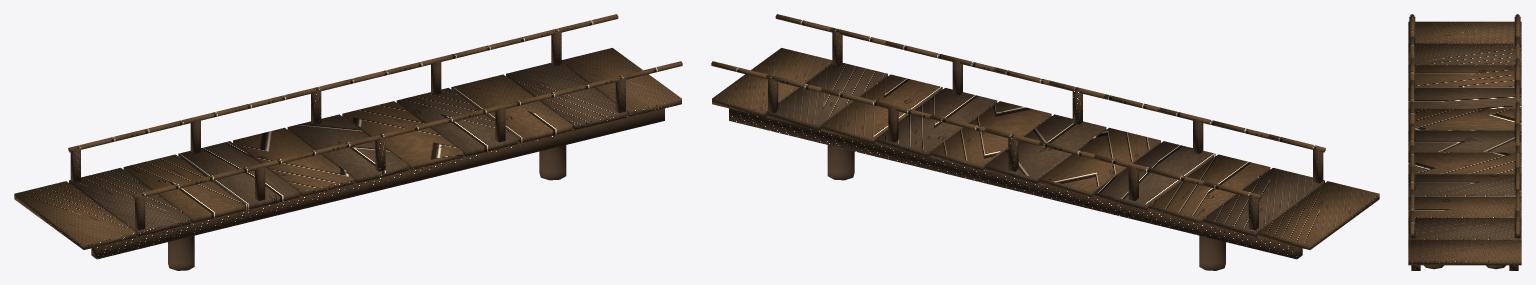
Rendered from bridge_wood.glb.
3 renders of one model, left to right at view 1: azimuth 30°, elevation 25°; view 2: azimuth 150°, elevation 25°; view 3: azimuth 270°, elevation 25°, orthographic. The views are drawn at different scales.
Parts seen in each view (by area): view 1: geometry_0, geometry_1, geometry_2, geometry_3; view 2: geometry_0, geometry_1, geometry_2, geometry_3; view 3: geometry_0, geometry_1, geometry_2, geometry_3.
Boxes of the visible parts, <box> form: geometry_0: <box>14,14,682,249</box>; geometry_1: <box>69,63,627,236</box>; geometry_2: <box>70,31,664,259</box>; geometry_3: <box>168,145,566,270</box>; geometry_0: <box>711,14,1379,249</box>; geometry_1: <box>766,63,1324,236</box>; geometry_2: <box>729,31,1323,259</box>; geometry_3: <box>827,145,1225,270</box>; geometry_0: <box>1408,14,1521,265</box>; geometry_1: <box>1408,43,1521,239</box>; geometry_2: <box>1409,16,1520,270</box>; geometry_3: <box>1424,265,1505,269</box>.
Bounding box in the file's own units: 10.99 × 1.66 × 2.2.
Materials: 4 (3 with a texture image).
